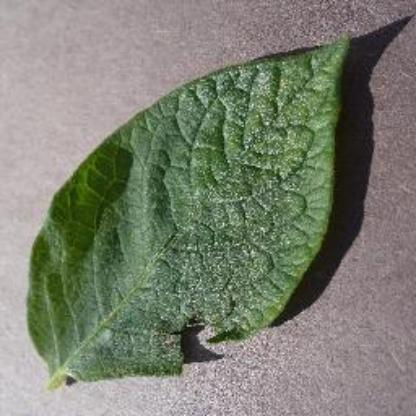Healthy-plant: (24, 30, 354, 396)
